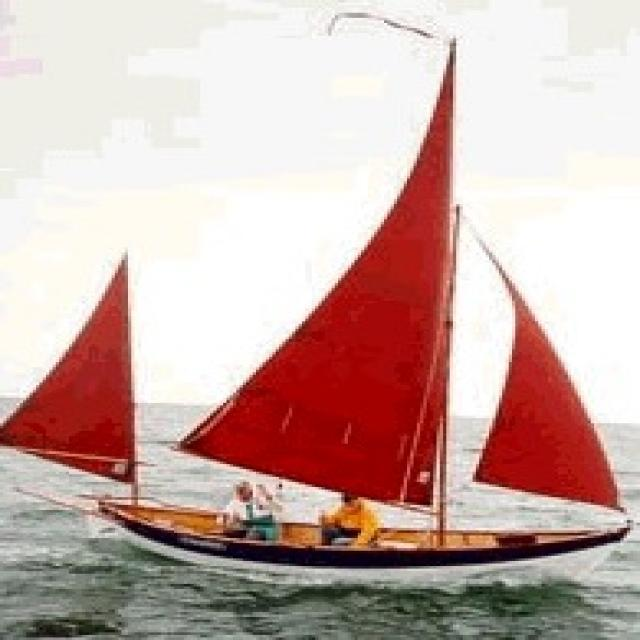Ship: (10, 26, 640, 591)
